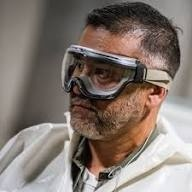safety_goggles: (54, 42, 184, 107)
